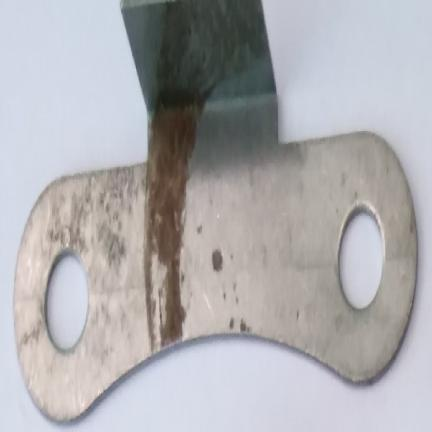besi_tidak_karat: (14, 0, 417, 420)
